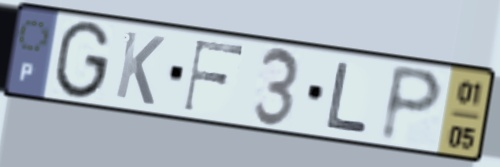3: (250, 44, 303, 131)
F: (180, 38, 248, 115)
G: (50, 18, 115, 102)
K: (111, 27, 168, 109)
L: (324, 59, 373, 136)
P: (376, 60, 447, 146)
